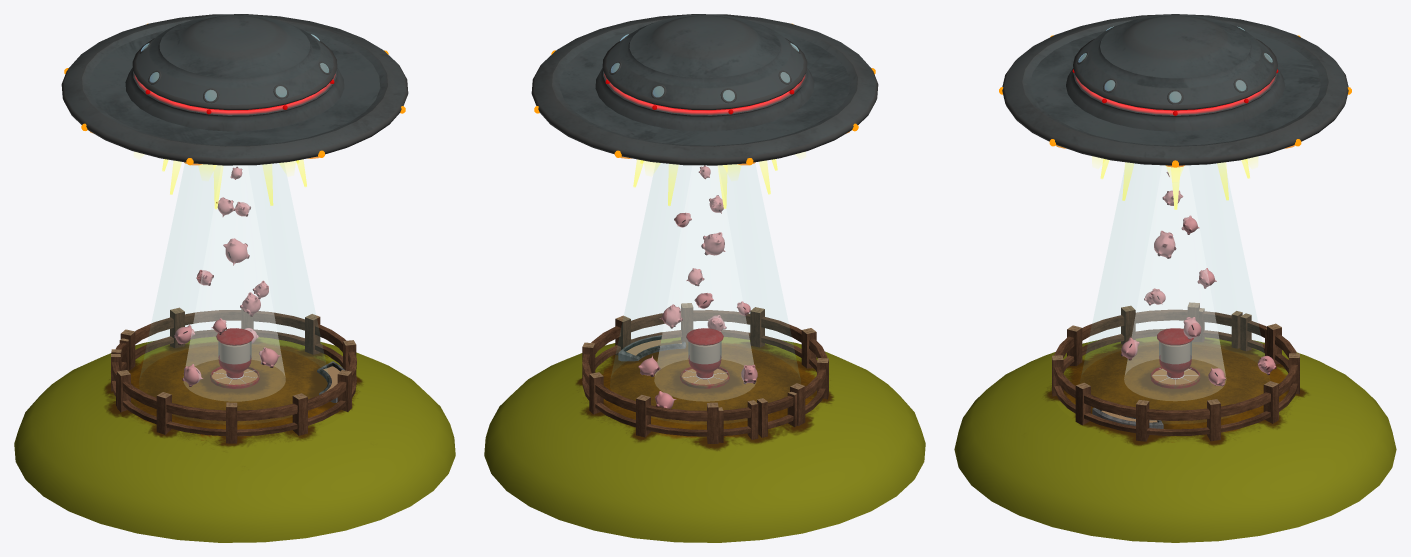
3 views of the same model, side by side, from view 1: azimuth 30°, elevation 25°; view 2: azimuth 150°, elevation 25°; view 3: azimuth 270°, elevation 25° (orthographic).
Parts seen in each view (by area): view 1: Grass, UFO, Light, Pig; view 2: Grass, UFO, Light, Pig; view 3: Grass, UFO, Light, Pig.
Boxes of the visible parts, x1,y1,x2,y2 form: Grass: [14, 307, 455, 542]; UFO: [61, 14, 408, 363]; Light: [162, 159, 306, 401]; Pig: [174, 166, 344, 402]; Grass: [484, 303, 925, 542]; UFO: [531, 14, 878, 363]; Light: [633, 159, 777, 401]; Pig: [618, 165, 757, 408]; Grass: [954, 302, 1396, 542]; UFO: [999, 14, 1351, 363]; Light: [1092, 157, 1257, 400]; Pig: [1092, 172, 1276, 428].
Size of the model in its own units: 121 by 126 by 121.
